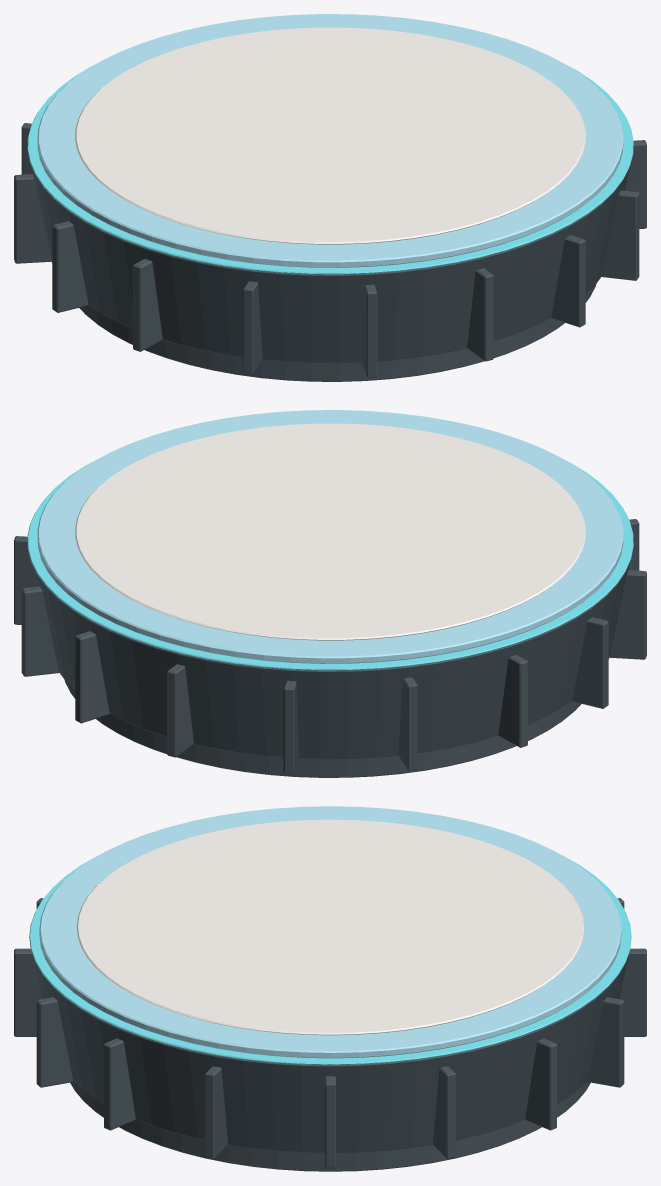
The model's file is SM_Holotable.fbx.
The picture shows the model from 3 angles, top to bottom: view 1: azimuth 30°, elevation 25°; view 2: azimuth 150°, elevation 25°; view 3: azimuth 270°, elevation 25°; orthographic projection.
Parts seen in each view (by area): view 1: SM_Holotable; view 2: SM_Holotable; view 3: SM_Holotable.
Part boxes in pixels (<box>): SM_Holotable: <box>14,14,646,381</box>; SM_Holotable: <box>14,410,646,777</box>; SM_Holotable: <box>14,806,646,1171</box>.
Size of the model in its own units: 474 by 110 by 474.
